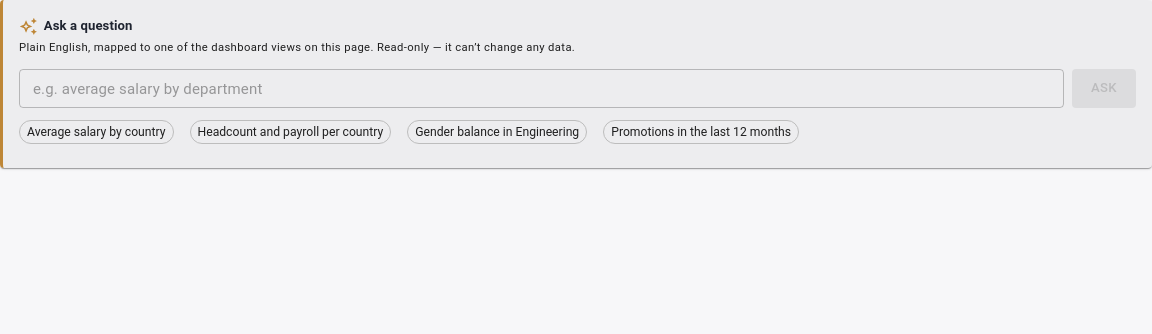
Test: NLQueryBox › submits the question and renders the result table with formatted figures
The image size is (1152, 334).
Type "average salary by country" into the field named "Analytics question" at (542,89), box [19, 69, 1064, 108]
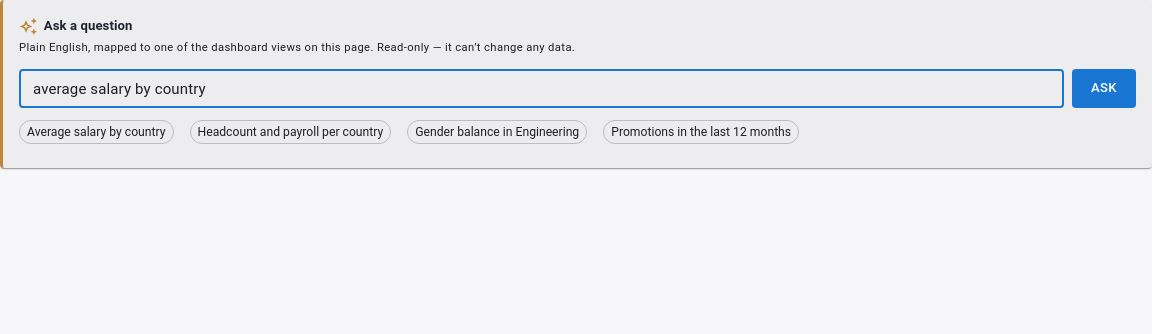
Click the button "Ask" at (1104,89), box [1072, 69, 1136, 108]
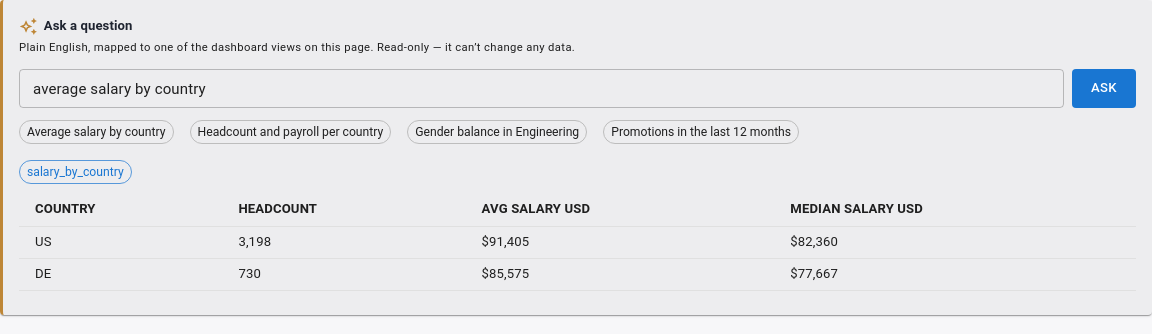
Check: the text "salary_by_country" is shown, box [20, 163, 131, 181]
Check: the column heading "Avg Salary Usd" is shown, box [466, 192, 774, 227]
Check: the text "$91,405" is shown, box [466, 227, 774, 259]
